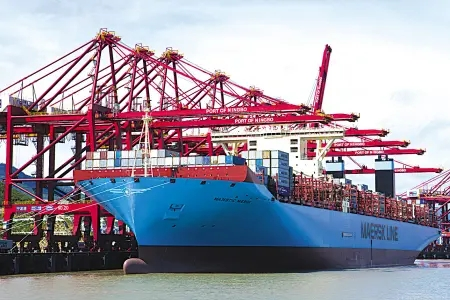Cargoship: (64, 142, 444, 271)
